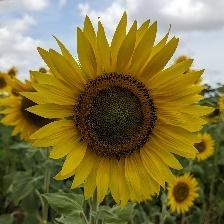sunflower: (34, 17, 199, 188)
